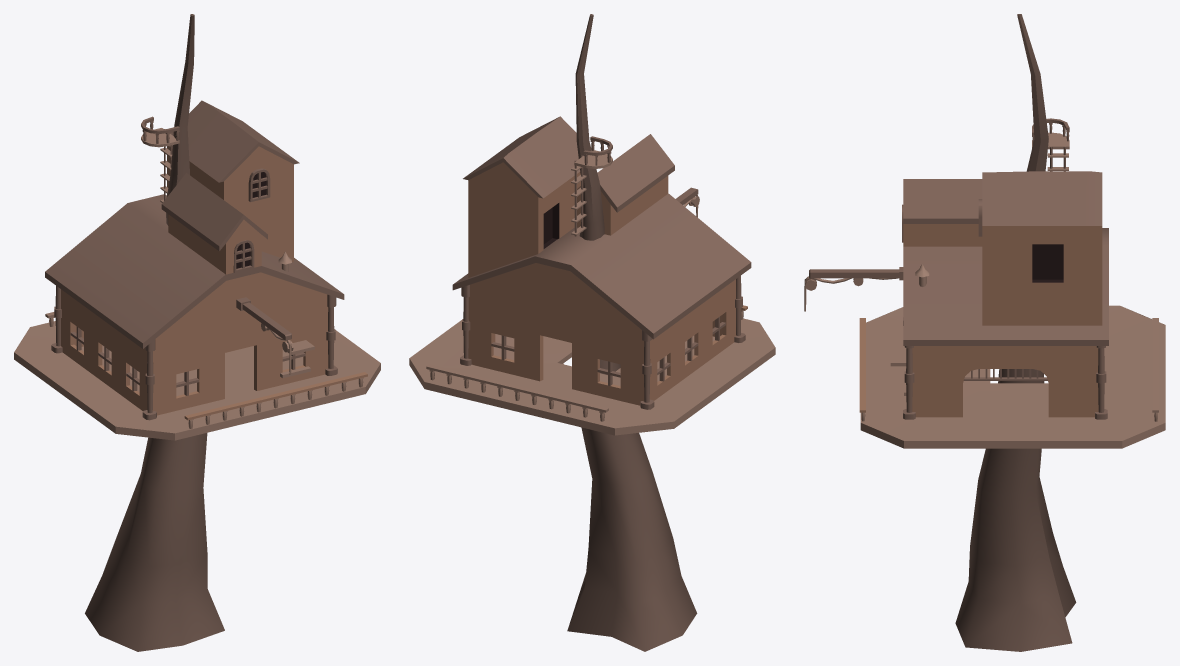
The picture shows the model from 3 angles, left to right: view 1: azimuth 30°, elevation 25°; view 2: azimuth 150°, elevation 25°; view 3: azimuth 270°, elevation 25°; orthographic projection. The views are drawn at different scales.
Parts seen in each view (by area): view 1: SM_Cabin:SM_Cabin; view 2: SM_Cabin:SM_Cabin; view 3: SM_Cabin:SM_Cabin.
Boxes of the visible parts, left/top/right/bottom form: SM_Cabin:SM_Cabin: left=14, top=14, right=380, bottom=651; SM_Cabin:SM_Cabin: left=409, top=14, right=775, bottom=651; SM_Cabin:SM_Cabin: left=804, top=14, right=1165, bottom=651.
Bounding box in the file's own units: 14.28 × 30.94 × 16.1.
